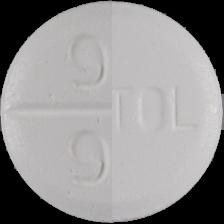0093-0090: (0, 0, 224, 224)
